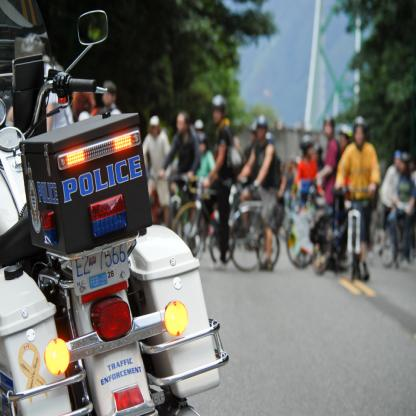Helmet: (350, 114, 366, 153), (195, 131, 207, 159), (322, 115, 336, 137), (298, 134, 315, 152), (211, 94, 228, 110), (340, 124, 354, 141), (254, 118, 268, 130), (265, 130, 275, 145)
